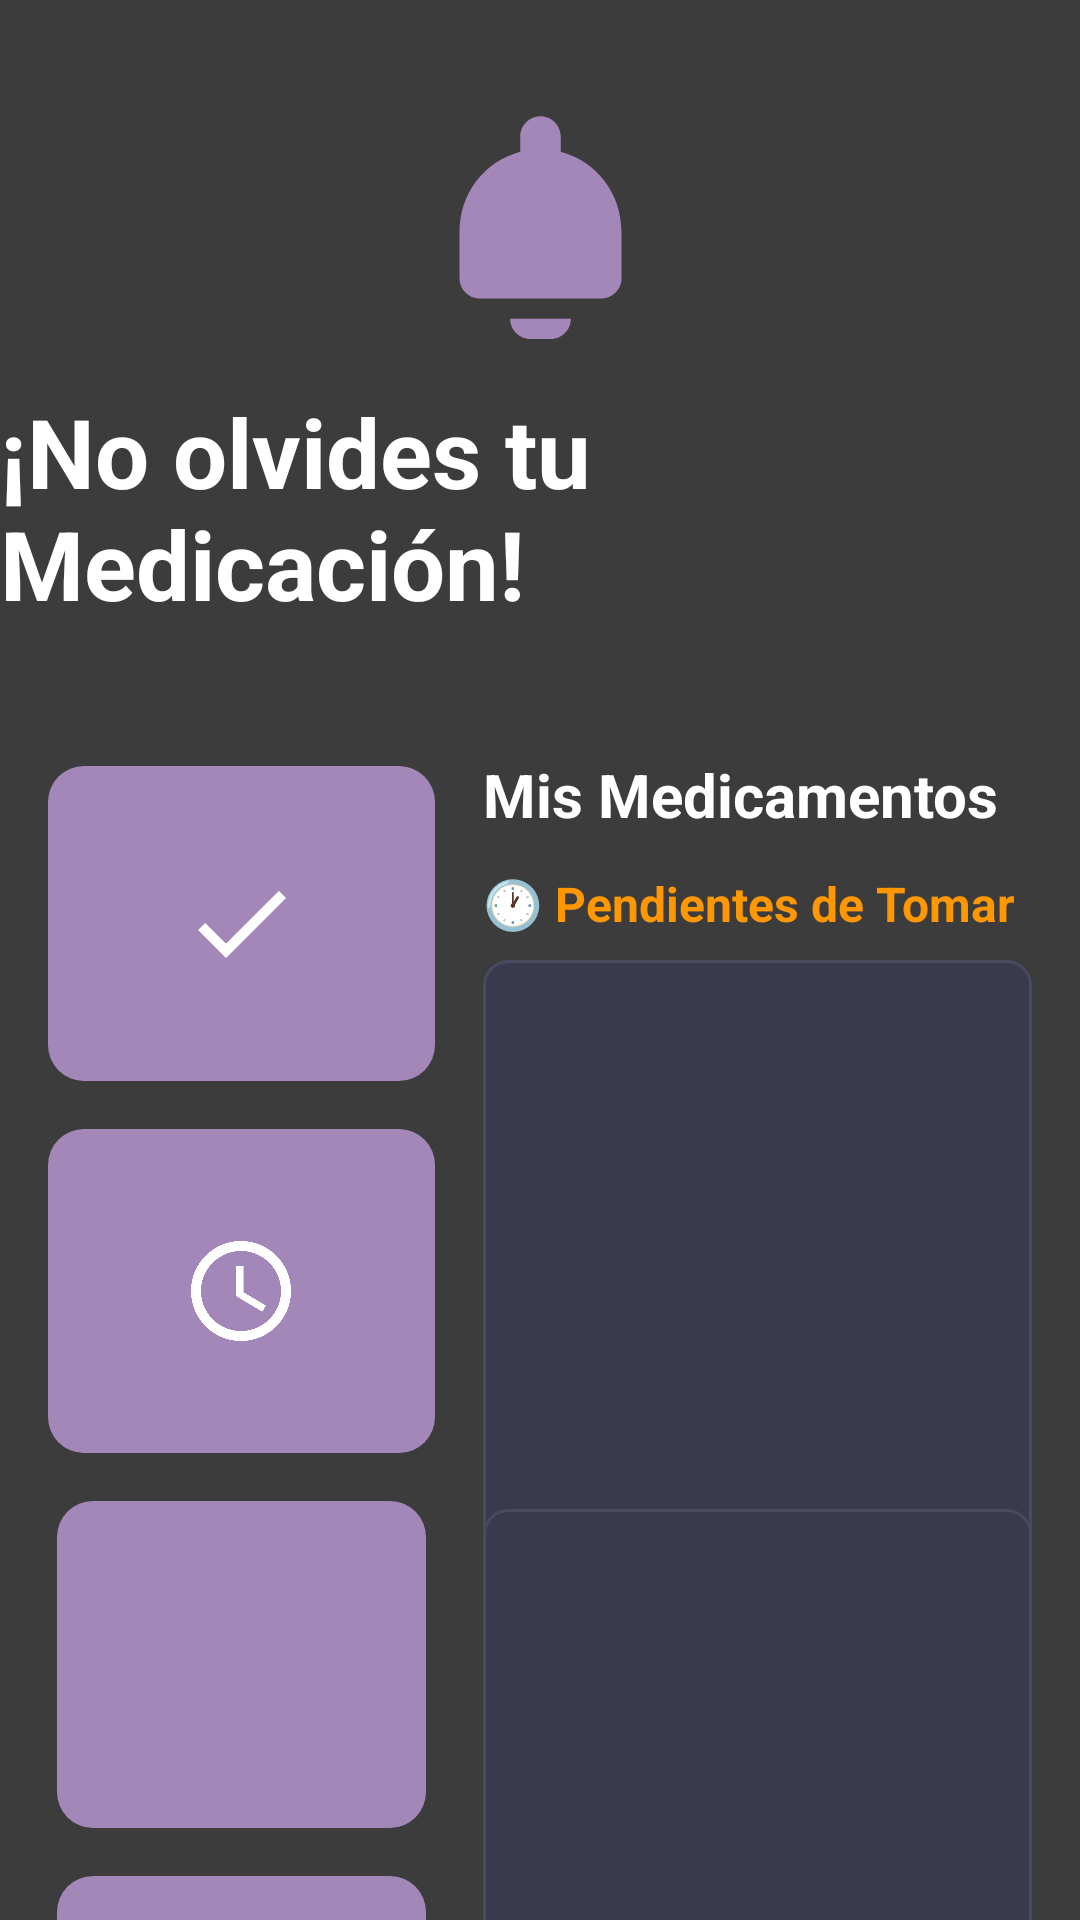

Named icons in this screenshot (1080 × 1920) and their bounding boxes, (x1, y1, x2, y2):
bell: (459, 116, 622, 339)
postpon: (191, 1241, 291, 1341)
taken: (198, 891, 286, 958)
